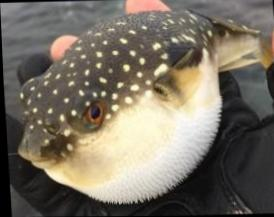fish: (17, 10, 265, 203)
